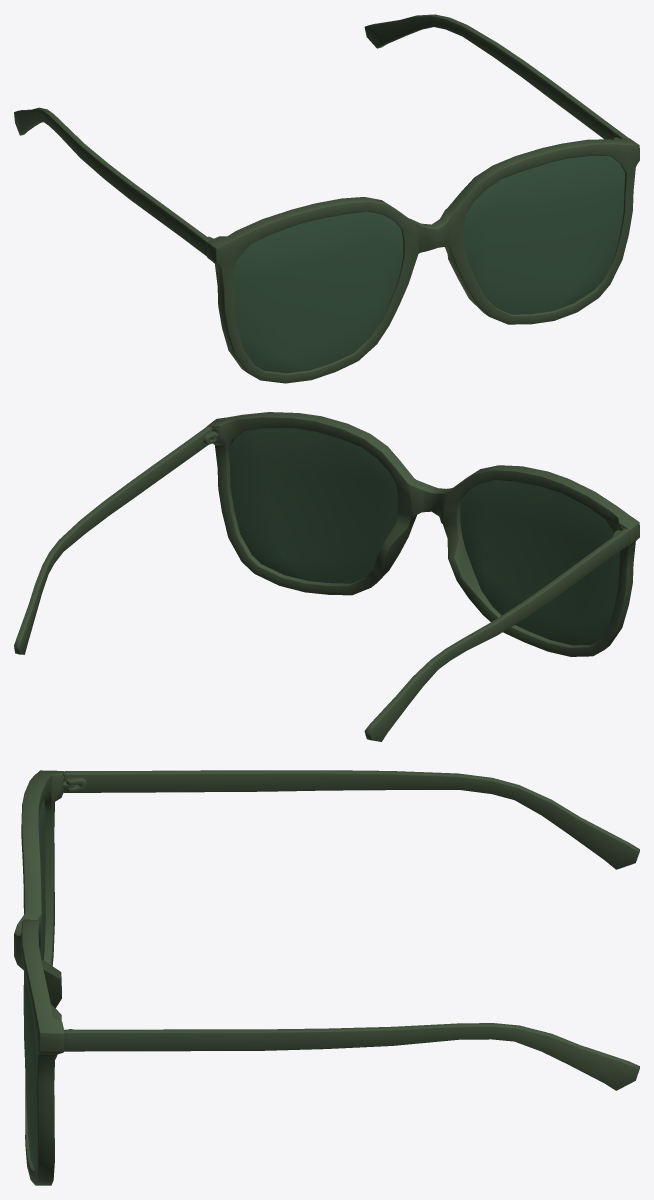
The model's file is sport-wrap-zeytin-yesili.glb.
The picture shows the model from 3 angles, top to bottom: view 1: azimuth 30°, elevation 25°; view 2: azimuth 150°, elevation 25°; view 3: azimuth 270°, elevation 25°; orthographic projection. The views are drawn at different scales.
Parts seen in each view (by area): view 1: OPTIK_PRODUCT_261; view 2: OPTIK_PRODUCT_261; view 3: OPTIK_PRODUCT_261.
Part boxes in pixels (box(x1,y1,x2,y2)): OPTIK_PRODUCT_261: box(14, 14, 639, 383); OPTIK_PRODUCT_261: box(14, 412, 639, 741); OPTIK_PRODUCT_261: box(14, 770, 639, 1185).
Bounding box in the file's own units: 0.1527 × 0.0593 × 0.1539.
